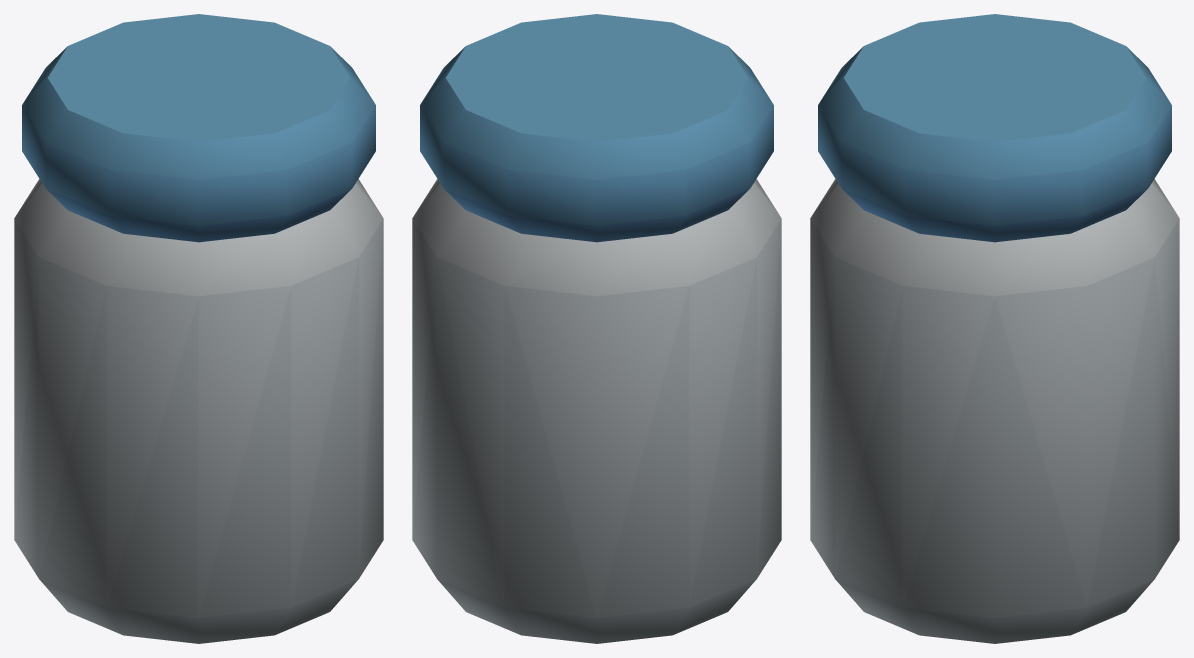
The model's file is kk_restaurant_jar_A_large.glb.
3 renders of one model, left to right at view 1: azimuth 30°, elevation 25°; view 2: azimuth 150°, elevation 25°; view 3: azimuth 270°, elevation 25°, orthographic.
Visible parts, largest first — view 1: kk_restaurant_jar_A_large; view 2: kk_restaurant_jar_A_large; view 3: kk_restaurant_jar_A_large.
Boxes of the visible parts, x1,y1,x2,y2 form: kk_restaurant_jar_A_large: [14, 14, 383, 643]; kk_restaurant_jar_A_large: [412, 14, 781, 643]; kk_restaurant_jar_A_large: [810, 14, 1179, 643].
Size of the model in its own units: 0.5 by 0.75 by 0.5.
